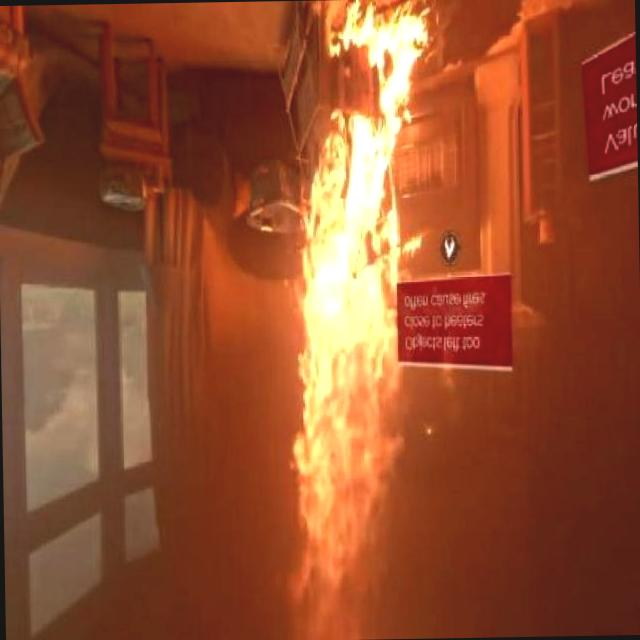fire: (246, 110, 443, 640)
